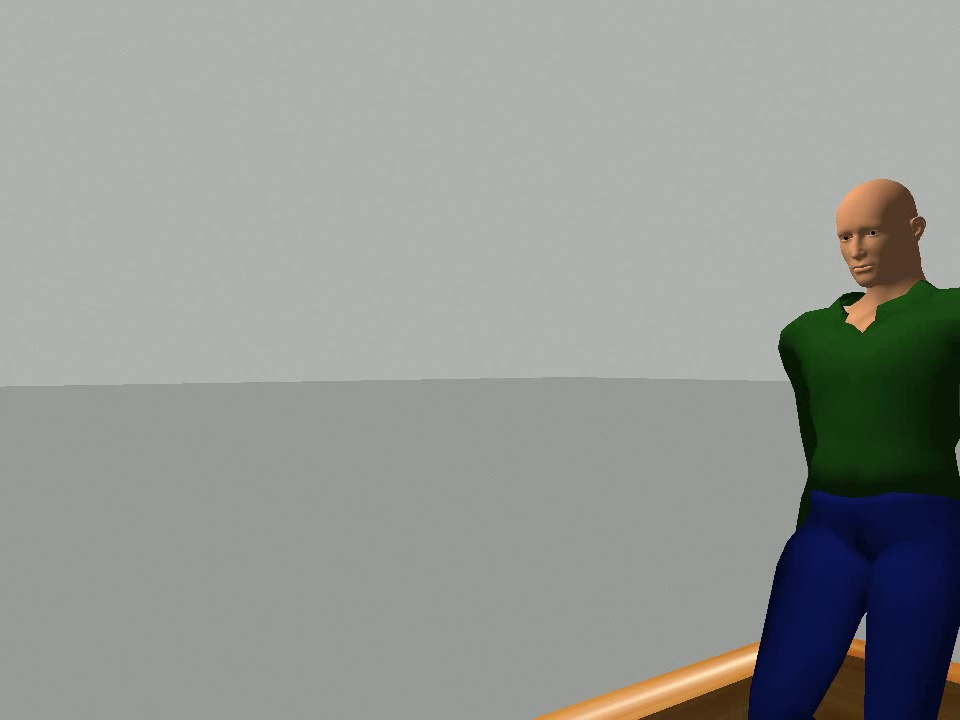person: (741, 174, 960, 720)
